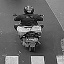motor: (14, 5, 44, 50)
